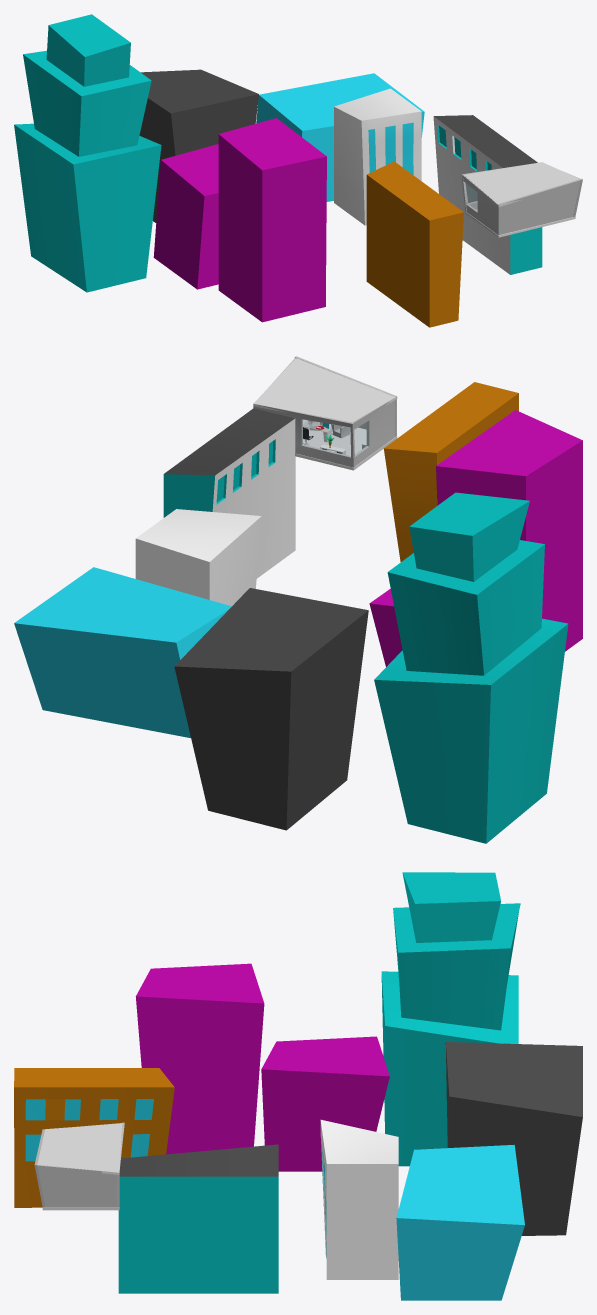
File: office - schra_g_mod_0005.fbx
3 views of the same model, one above another, from view 1: azimuth 30°, elevation 25°; view 2: azimuth 150°, elevation 25°; view 3: azimuth 270°, elevation 25° (orthographic). The views are drawn at different scales.
Parts seen in each view (by area): view 1: Haus_3, Würfel_1, Würfel, Würfel_2, Haus_1, Haus_2, Haus_3_2, Würfel_3, Würfel_2_14, decke, Würfel_4_8; view 2: Haus_3, Haus_3_2, Würfel_3, Würfel_1, Haus_1, Haus_2, Würfel, decke, Würfel_1_13, Würfel_2, Würfel_4_8, Würfel_19; view 3: Haus_3, Haus_1, Würfel_1, Haus_3_2, Würfel_3, Würfel_2, Würfel, Haus_2, decke, Würfel_3_13.
Boxes of the visible parts, bbox=[...] form: Haus_3: bbox=[14, 14, 161, 292]; Würfel_1: bbox=[218, 118, 326, 322]; Würfel: bbox=[366, 161, 463, 327]; Würfel_2: bbox=[153, 144, 218, 289]; Haus_1: bbox=[433, 115, 542, 274]; Haus_2: bbox=[334, 88, 421, 225]; Haus_3_2: bbox=[139, 69, 258, 222]; Würfel_3: bbox=[256, 73, 424, 201]; Würfel_2_14: bbox=[497, 178, 582, 235]; decke: bbox=[464, 162, 579, 207]; Würfel_4_8: bbox=[463, 174, 499, 235]; Haus_3: bbox=[374, 492, 568, 843]; Haus_3_2: bbox=[174, 588, 368, 830]; Würfel_3: bbox=[14, 567, 231, 738]; Würfel_1: bbox=[436, 410, 582, 651]; Haus_1: bbox=[163, 408, 295, 578]; Haus_2: bbox=[135, 509, 261, 606]; Würfel: bbox=[383, 382, 518, 561]; decke: bbox=[253, 358, 397, 422]; Würfel_1_13: bbox=[253, 404, 355, 467]; Würfel_2: bbox=[369, 589, 402, 666]; Würfel_4_8: bbox=[350, 400, 395, 465]; Würfel_19: bbox=[295, 419, 397, 470]; Haus_3: bbox=[381, 872, 520, 1166]; Haus_1: bbox=[118, 1144, 278, 1293]; Würfel_1: bbox=[135, 963, 264, 1154]; Haus_3_2: bbox=[445, 1042, 582, 1235]; Würfel_3: bbox=[396, 1144, 524, 1300]; Würfel_2: bbox=[261, 1036, 389, 1171]; Würfel: bbox=[14, 1068, 174, 1207]; Haus_2: bbox=[320, 1119, 398, 1279]; decke: bbox=[37, 1123, 121, 1174]; Würfel_3_13: bbox=[37, 1165, 116, 1207].
Size of the model in its own units: 3770 by 2285 by 4433.
